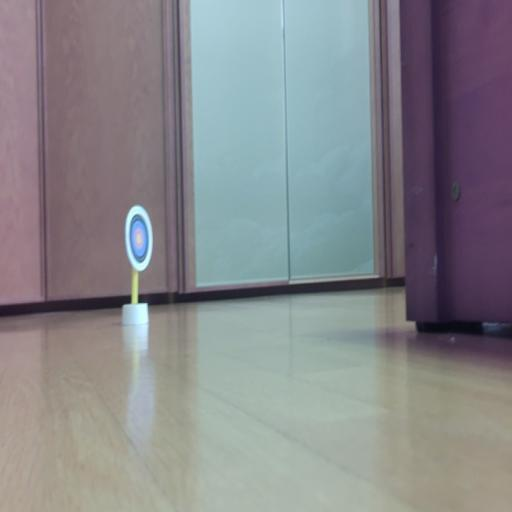target: (125, 206, 153, 272)
